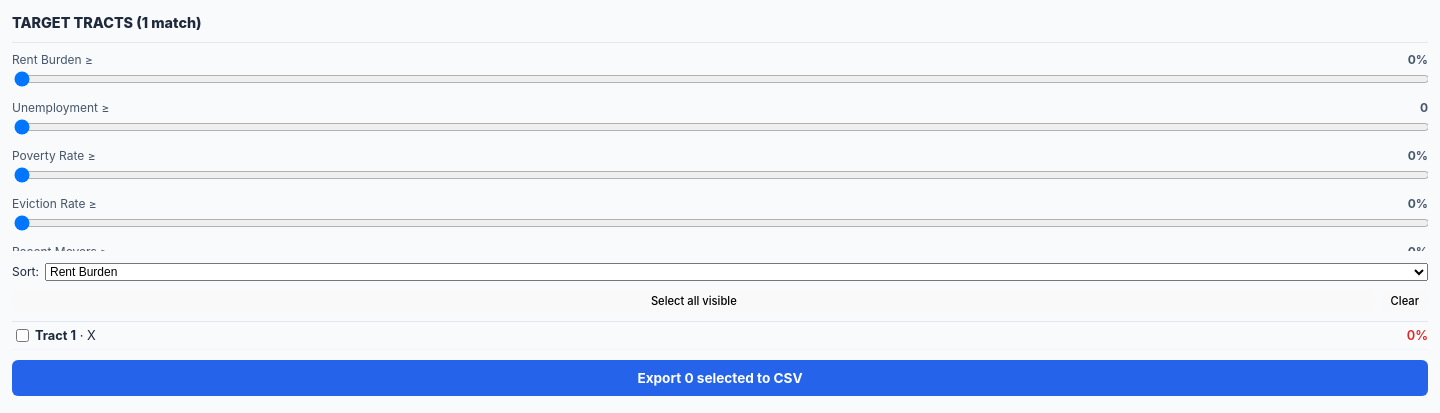
Test: TargetingPanel — selection › "Clear" empties the selection
The image size is (1440, 413).
Click the button "Select all visible".
click(694, 301)  # box [12,289,1376,313]
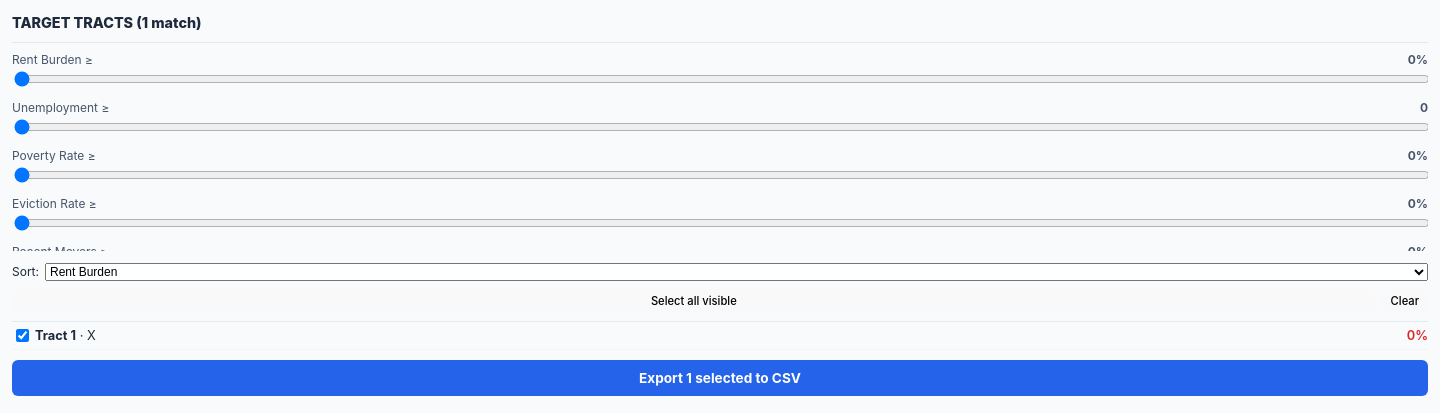
Expected: the button "Export 1 selected to CSV" is shown, [12,360,1428,396]
Click the button "Clear".
click(1405, 301)  # box [1382,289,1428,313]
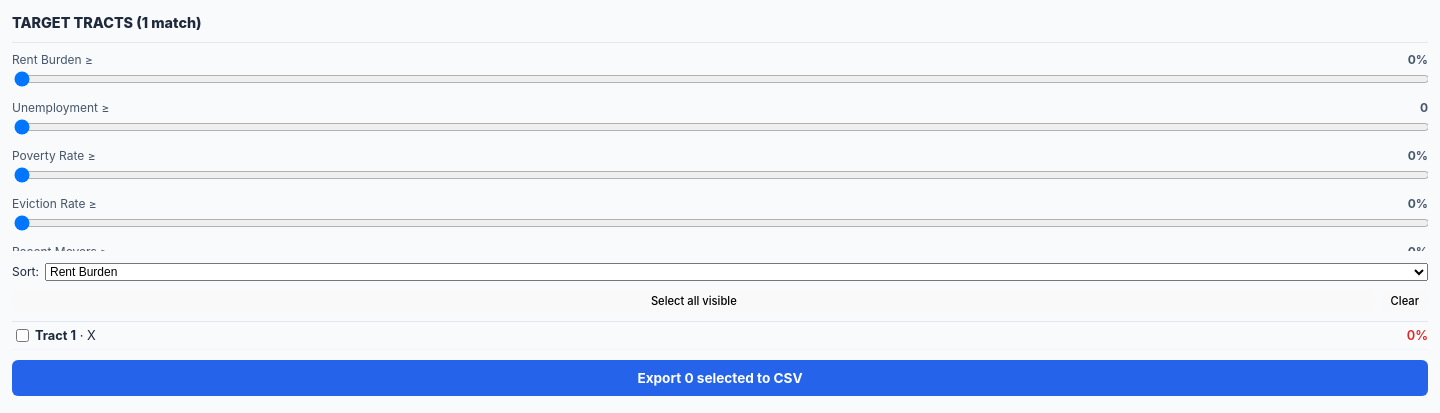
Expected: the button "Export 0 selected to CSV" is shown, [12,360,1428,396]
